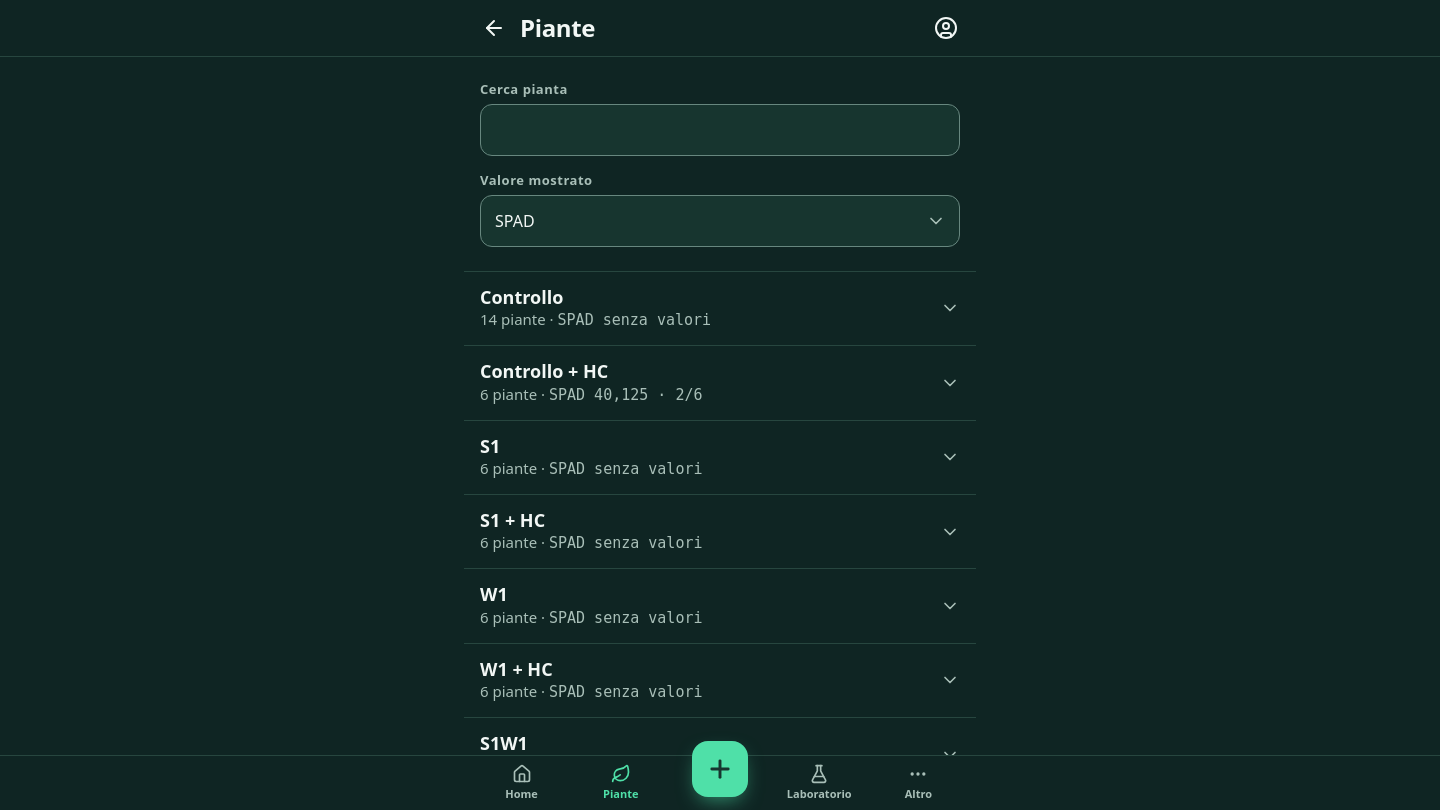
ElencoPiante: il valore mostrato e le medie › le piante di un blocco aperto mostrano il loro ultimo valore e la data; senza valore lo dicono
Click the button "Controllo + HC 6 piante · SPAD 40,125 · 2/6". click: (544, 371)
box: [464, 346, 976, 420]
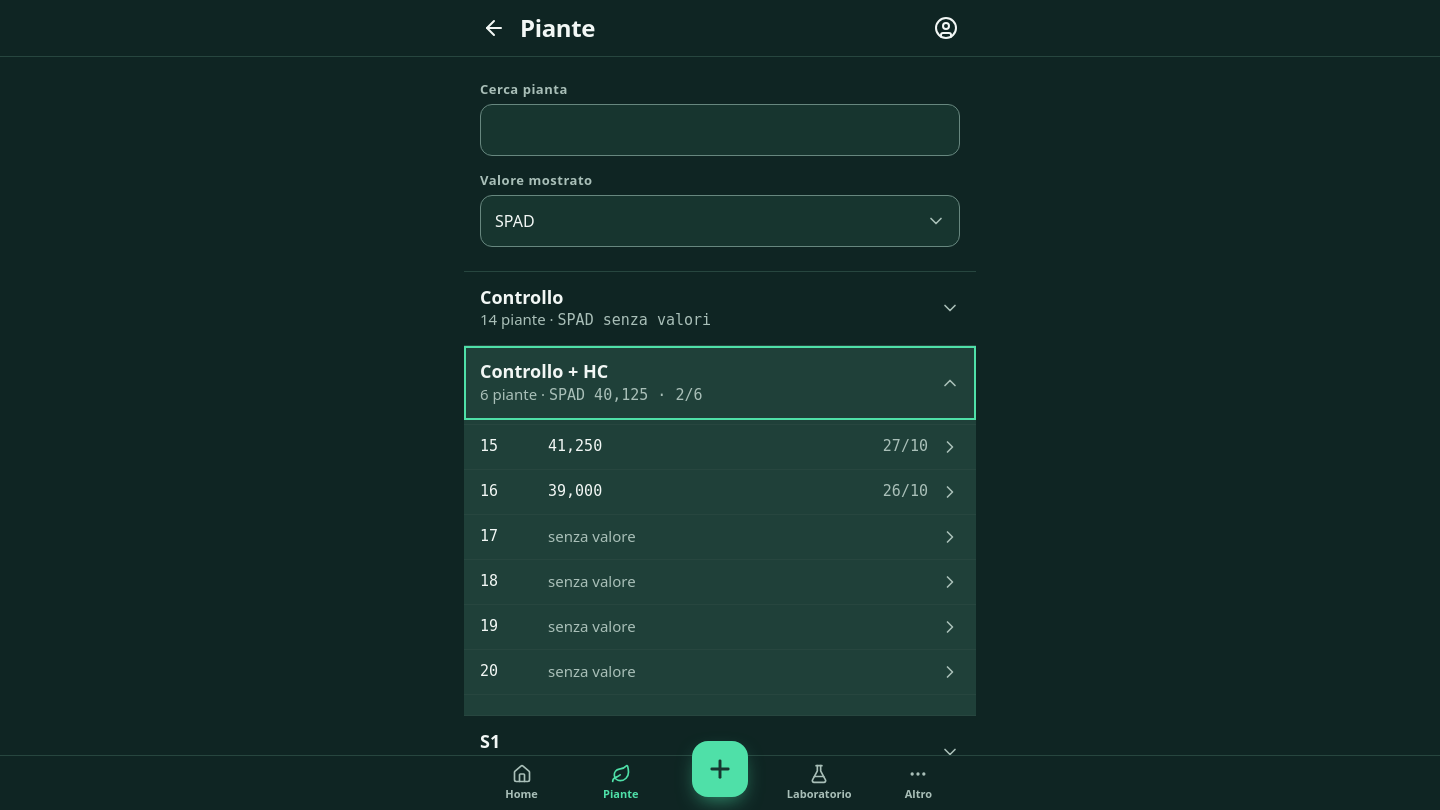
Expected: the link "15 41,250 27/10" is shown, [480, 437, 960, 457]
Expected: the link "16 39,000 26/10" is shown, [480, 482, 960, 502]
Expected: the link "17 senza valore" is shown, [480, 526, 960, 547]
